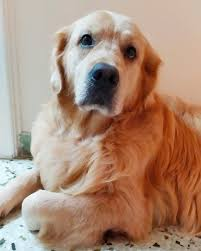Golden Retriever: (9, 4, 201, 240)
